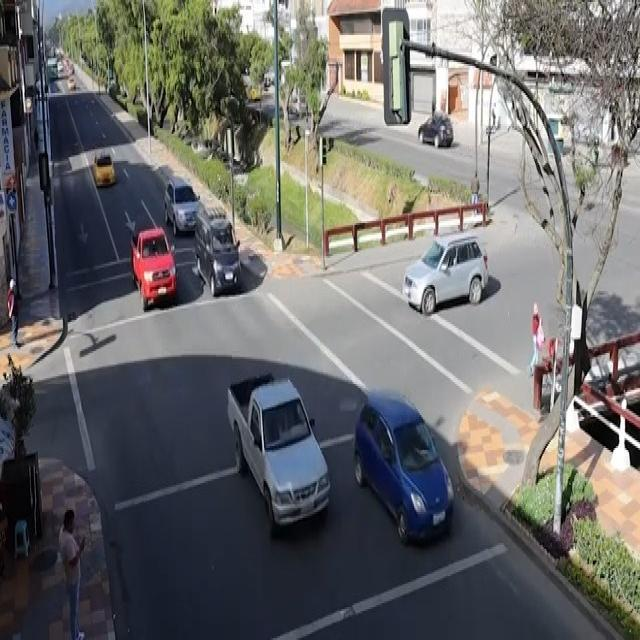CMT: (228, 370, 329, 530), (128, 228, 180, 312)
SED: (346, 384, 460, 549), (84, 149, 120, 188)
SUV: (397, 232, 494, 318)
